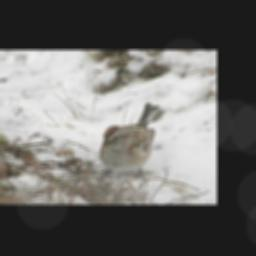Sparrow: (95, 101, 165, 181)
